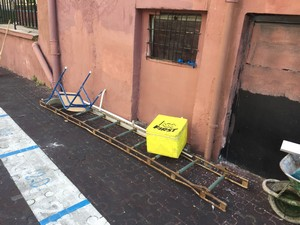cube: (146, 114, 189, 160)
